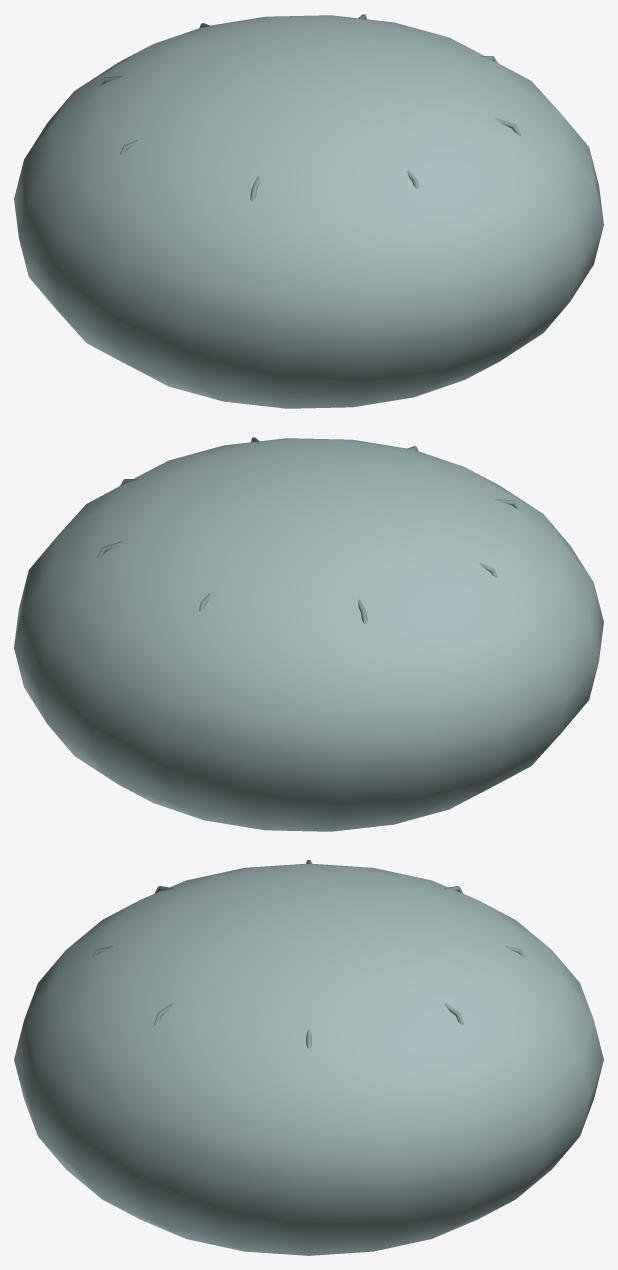
File: atelier-pouf.glb
3 views of the same model, one above another, from view 1: azimuth 30°, elevation 25°; view 2: azimuth 150°, elevation 25°; view 3: azimuth 270°, elevation 25° (orthographic).
Visible parts, largest first — view 1: fabric.018, seams.018; view 2: fabric.018, seams.018; view 3: fabric.018, seams.018.
Part boxes in pixels (box(x1,y1,x2,y2)): fabric.018: box(14, 15, 603, 408); seams.018: box(97, 14, 520, 201); fabric.018: box(14, 438, 603, 831); seams.018: box(97, 437, 520, 624); fabric.018: box(14, 863, 603, 1255); seams.018: box(92, 860, 525, 1048).
Bounding box in the file's own units: 0.84 × 0.48 × 0.84.
